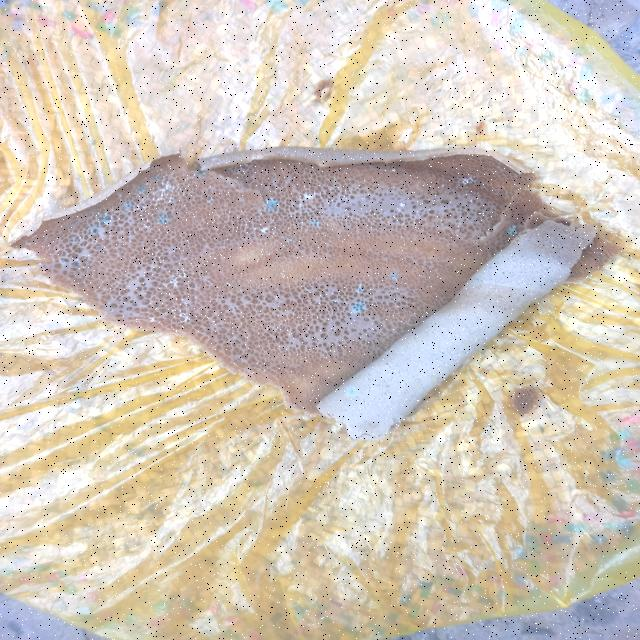injera_mold: (150, 182, 184, 206), (164, 271, 190, 288), (170, 306, 191, 324), (261, 198, 281, 212), (297, 193, 315, 207), (458, 175, 480, 185), (156, 213, 172, 225), (351, 302, 366, 314), (508, 224, 520, 236), (132, 204, 147, 212), (355, 282, 365, 293), (89, 225, 99, 234), (99, 215, 110, 223), (390, 272, 399, 280), (136, 185, 146, 192), (260, 227, 270, 234), (122, 202, 130, 210), (71, 260, 80, 267), (347, 388, 356, 395), (152, 174, 162, 180), (311, 220, 320, 226), (147, 316, 156, 322), (206, 197, 213, 204), (60, 259, 67, 264), (286, 238, 292, 243), (399, 202, 406, 206), (391, 168, 396, 172), (253, 228, 257, 231)
